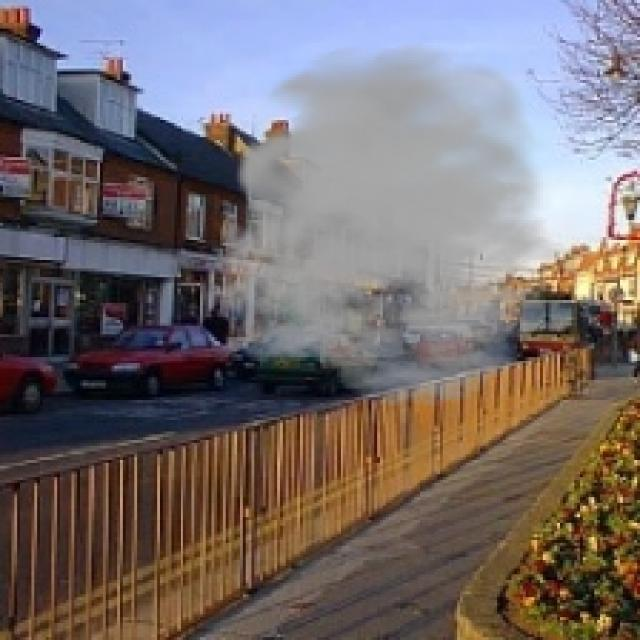Smoke: (203, 42, 592, 408)
